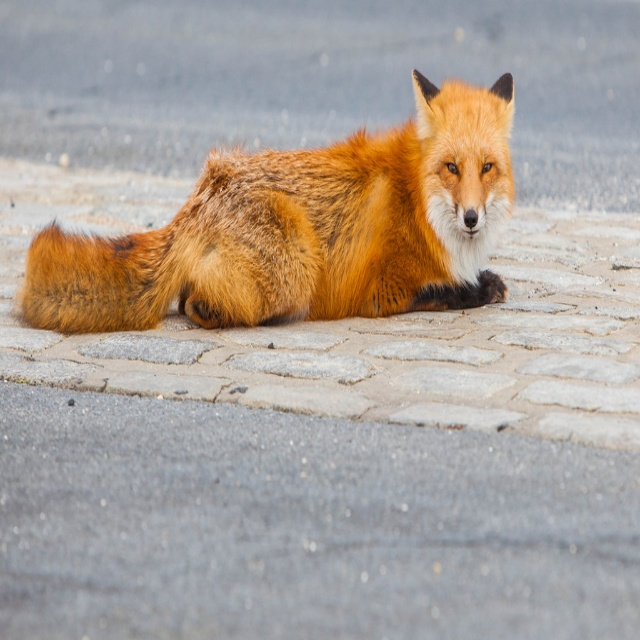Fox: (11, 67, 518, 333)
